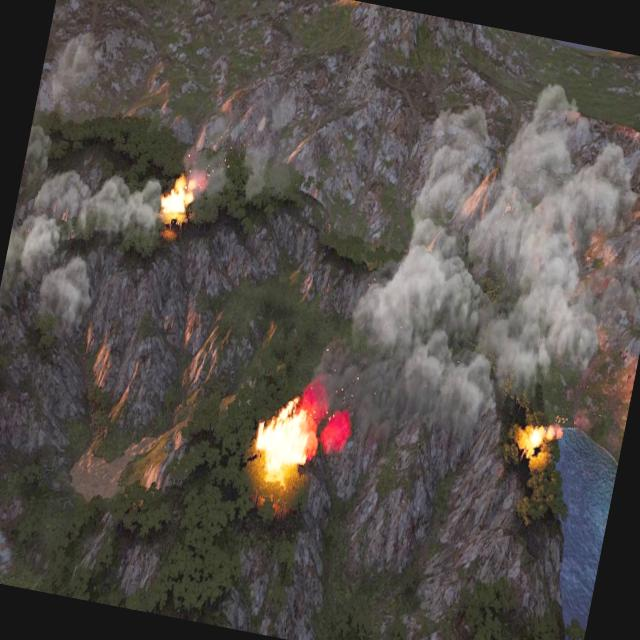fire: (247, 392, 323, 492), (158, 173, 200, 226), (518, 418, 561, 460)
smoke: (333, 49, 640, 443), (6, 153, 166, 344), (236, 142, 274, 206), (318, 407, 355, 462)
